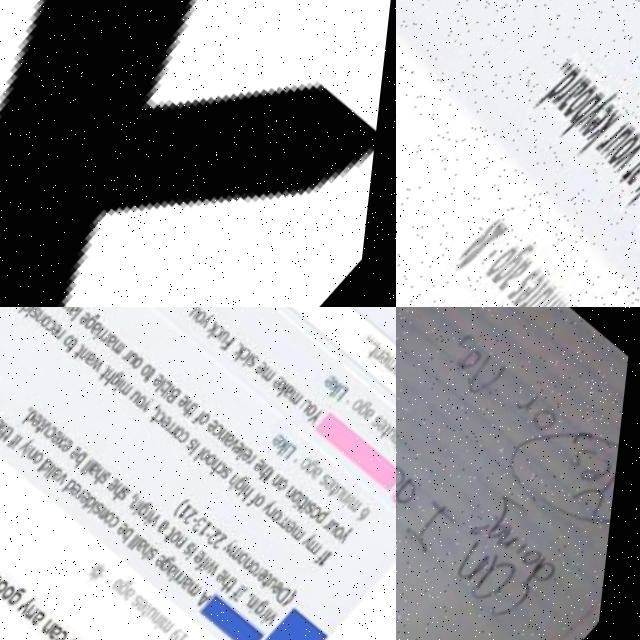1: (204, 523, 220, 540), (184, 506, 200, 523), (183, 634, 199, 640)
2: (189, 510, 207, 528), (219, 535, 236, 554), (214, 532, 230, 549)
3: (197, 517, 216, 536)
6: (360, 510, 380, 529)
9: (174, 627, 195, 640)
A: (37, 610, 58, 630), (203, 592, 222, 612), (187, 577, 204, 595), (55, 624, 74, 640), (130, 587, 147, 604), (171, 564, 188, 581), (141, 539, 158, 556), (226, 434, 243, 451), (106, 334, 123, 351), (315, 468, 332, 485), (366, 410, 383, 427), (55, 468, 72, 484), (161, 522, 178, 538), (285, 386, 301, 403), (92, 464, 108, 480), (85, 353, 101, 369), (91, 321, 107, 337), (67, 307, 84, 319)
B: (76, 452, 94, 471), (159, 382, 178, 400), (168, 389, 187, 407), (126, 528, 142, 545)
C: (214, 327, 230, 343), (114, 516, 129, 532), (45, 320, 61, 335), (242, 350, 257, 366), (182, 433, 196, 449), (158, 413, 172, 429), (49, 426, 63, 441), (220, 465, 234, 480), (61, 630, 80, 640), (216, 427, 229, 441)
D: (282, 588, 302, 608), (42, 458, 60, 477), (87, 497, 105, 515), (26, 411, 43, 428), (67, 479, 83, 497), (0, 574, 10, 596), (19, 307, 35, 317)
E: (110, 478, 128, 496), (49, 323, 67, 341), (256, 362, 274, 380), (378, 420, 396, 438), (236, 442, 253, 460), (79, 311, 96, 329), (144, 599, 161, 616), (84, 491, 101, 508), (278, 583, 295, 600), (263, 570, 280, 587), (326, 377, 343, 394), (74, 483, 91, 500), (122, 523, 138, 540), (64, 439, 80, 456), (33, 414, 49, 431), (245, 450, 262, 466), (210, 421, 227, 437), (179, 396, 196, 412), (155, 374, 171, 391), (276, 435, 292, 452), (275, 377, 291, 394), (379, 355, 396, 371), (222, 572, 238, 588), (200, 553, 216, 569), (162, 417, 178, 433), (257, 460, 273, 476), (328, 480, 344, 496), (73, 447, 88, 462), (54, 431, 69, 446), (161, 556, 176, 571), (291, 524, 305, 540), (0, 417, 11, 433), (15, 307, 31, 311)
F: (221, 335, 241, 355), (320, 551, 338, 570), (193, 411, 211, 429), (251, 493, 268, 512), (201, 558, 218, 576), (10, 433, 26, 451), (236, 587, 252, 605)
G: (15, 587, 36, 609), (309, 461, 329, 481), (360, 402, 379, 423), (239, 477, 258, 496), (166, 557, 185, 575), (261, 602, 280, 620), (86, 314, 103, 332), (142, 503, 159, 520), (112, 373, 129, 390), (125, 582, 141, 599)
H: (183, 402, 201, 421), (103, 371, 121, 389), (260, 467, 278, 485), (212, 461, 229, 479), (230, 476, 247, 494), (95, 470, 112, 487), (244, 488, 261, 505), (146, 545, 162, 563), (226, 577, 242, 594), (115, 486, 131, 503), (0, 423, 15, 441)
I: (241, 589, 259, 607), (324, 554, 341, 572), (48, 463, 63, 479), (269, 614, 283, 630), (137, 503, 151, 519), (94, 327, 108, 343), (284, 445, 298, 461), (175, 570, 189, 585), (257, 603, 271, 618), (206, 560, 220, 575), (192, 549, 206, 564), (149, 513, 163, 528), (299, 498, 313, 513), (335, 387, 349, 402), (93, 502, 107, 516), (242, 486, 256, 500), (115, 381, 129, 395), (16, 437, 29, 452), (193, 444, 206, 459), (24, 307, 39, 320), (245, 355, 258, 370), (163, 618, 176, 632), (305, 503, 318, 517), (348, 499, 361, 513), (167, 387, 179, 401)
K: (233, 347, 251, 365), (205, 324, 223, 342), (328, 383, 346, 401), (278, 441, 295, 459), (278, 383, 295, 401)
L: (287, 447, 304, 465), (133, 535, 149, 552), (338, 390, 354, 407), (239, 449, 254, 466), (70, 308, 85, 325), (136, 537, 151, 553), (50, 466, 64, 482), (198, 449, 212, 465), (25, 445, 39, 460), (87, 463, 101, 477), (85, 461, 98, 476), (157, 381, 170, 396)
M: (233, 547, 253, 566), (290, 391, 310, 410), (262, 368, 282, 387), (111, 339, 130, 358), (167, 619, 187, 637), (193, 583, 213, 601), (311, 543, 331, 561), (296, 529, 315, 547), (281, 517, 300, 535), (119, 382, 137, 400), (352, 500, 370, 518), (385, 359, 396, 378)
N: (32, 605, 50, 623), (49, 620, 67, 637), (102, 507, 119, 523), (29, 447, 45, 464), (181, 537, 196, 553), (221, 429, 236, 445), (344, 493, 359, 509), (253, 599, 268, 614), (250, 558, 264, 574), (276, 476, 290, 492), (159, 613, 173, 628), (135, 499, 149, 514), (35, 311, 49, 326), (291, 488, 305, 503), (375, 351, 389, 366), (80, 349, 94, 363)
O: (8, 585, 27, 604), (1, 579, 19, 598), (174, 427, 192, 445), (294, 492, 312, 510), (280, 480, 297, 498), (107, 513, 124, 530), (201, 413, 218, 430), (141, 364, 158, 381), (132, 357, 149, 374), (118, 578, 134, 595), (34, 452, 51, 468), (175, 532, 191, 549), (243, 553, 259, 570), (275, 512, 292, 528), (207, 456, 224, 472), (202, 450, 218, 467), (136, 395, 152, 412), (39, 315, 56, 331), (303, 460, 320, 476), (308, 405, 324, 422), (195, 311, 211, 328), (254, 563, 270, 579), (258, 497, 274, 513), (62, 334, 78, 350), (355, 401, 371, 417), (340, 528, 354, 544), (316, 508, 330, 524)
P: (322, 511, 338, 529)
R: (266, 608, 281, 624), (328, 520, 343, 536), (182, 575, 196, 591), (180, 571, 194, 587), (271, 508, 285, 524), (168, 421, 182, 437), (99, 327, 113, 343), (80, 488, 94, 503), (148, 510, 162, 525), (260, 567, 274, 582), (171, 425, 185, 440), (55, 329, 69, 344), (250, 455, 264, 470), (123, 349, 137, 364), (103, 332, 117, 347)
S: (188, 439, 205, 455), (123, 489, 138, 505), (323, 476, 338, 492), (139, 596, 154, 611), (225, 470, 240, 485), (310, 504, 325, 519), (250, 357, 265, 372), (153, 548, 167, 564), (189, 544, 203, 560), (104, 472, 118, 488), (97, 504, 111, 519), (30, 307, 44, 322), (375, 418, 389, 433)
T: (99, 366, 117, 384), (147, 604, 164, 622), (151, 410, 168, 428), (266, 470, 283, 488), (369, 346, 386, 364), (230, 581, 247, 598), (73, 345, 90, 362), (301, 499, 318, 516), (37, 419, 54, 435), (267, 576, 284, 592), (333, 485, 349, 502), (67, 340, 83, 356), (146, 370, 162, 386), (169, 529, 184, 545), (383, 426, 396, 444), (6, 428, 21, 443), (190, 407, 205, 422)
U: (273, 579, 290, 596), (43, 422, 58, 438), (127, 353, 143, 368), (339, 488, 354, 504), (133, 391, 147, 407), (334, 524, 348, 539), (304, 402, 318, 417), (220, 332, 234, 347), (190, 307, 204, 322), (154, 608, 168, 621), (389, 431, 396, 446)
V: (154, 515, 169, 530), (274, 614, 288, 630), (233, 440, 247, 456), (60, 473, 74, 488)
W: (90, 358, 110, 376), (211, 563, 230, 581), (59, 307, 79, 313)
X: (0, 0, 396, 307), (58, 435, 73, 450)
Y: (26, 595, 48, 618), (312, 411, 331, 431), (267, 502, 286, 521), (142, 398, 160, 417), (229, 540, 247, 558), (201, 314, 219, 332), (345, 530, 362, 549), (308, 536, 323, 552), (24, 439, 39, 454)
